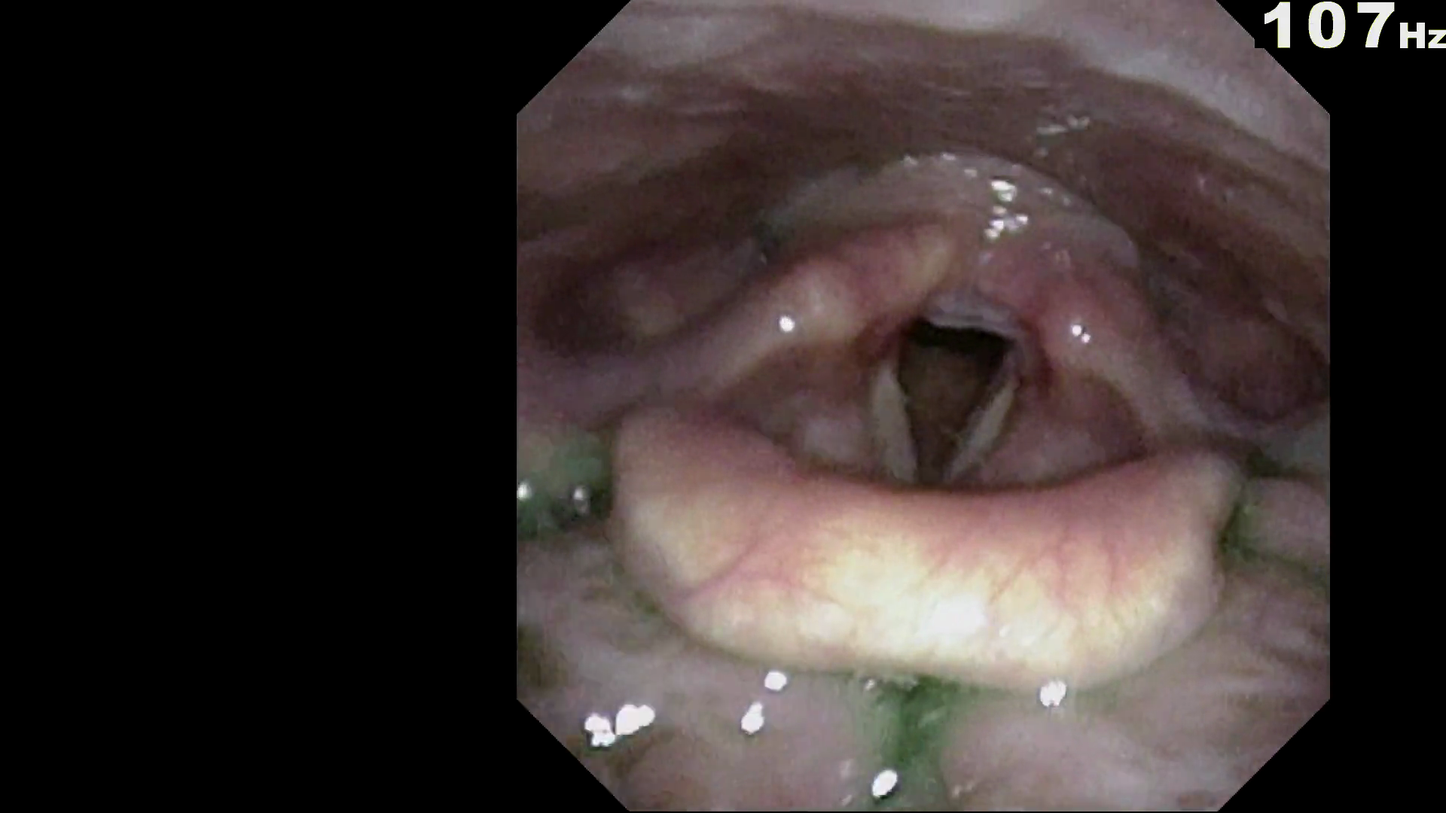epiglottis: (584, 389, 1271, 677), (602, 489, 1226, 761)
trachea: (885, 305, 1017, 494)
